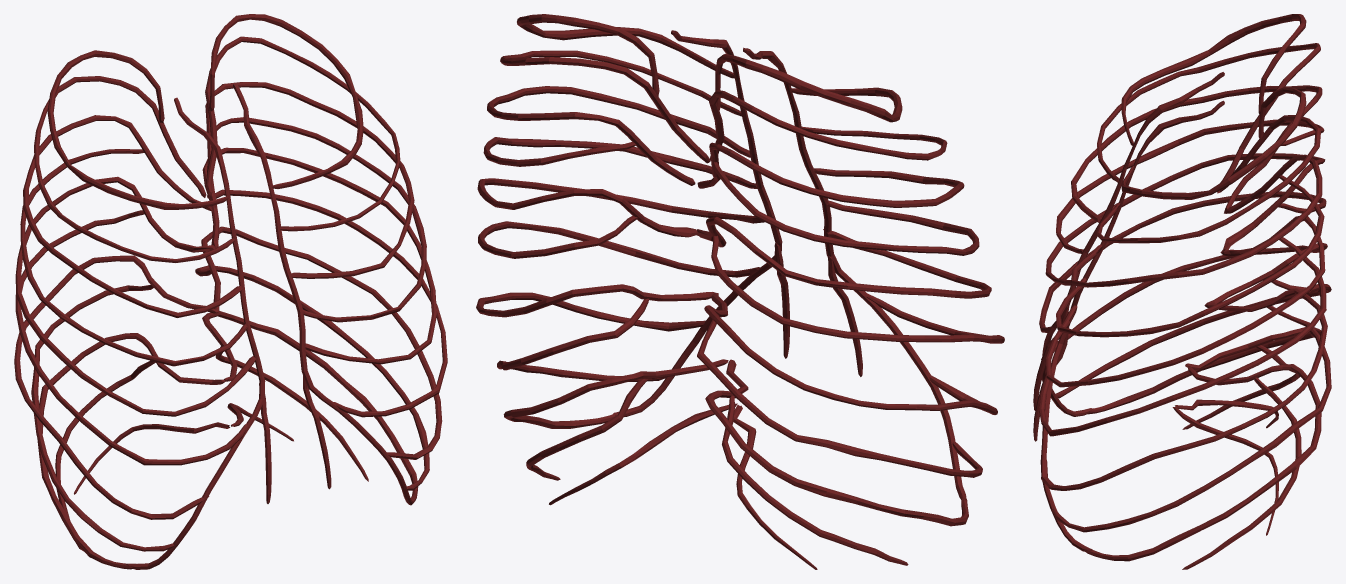
Rendered from Artérias Intercostales.FBX.
The picture shows the model from 3 angles, left to right: view 1: azimuth 30°, elevation 25°; view 2: azimuth 150°, elevation 25°; view 3: azimuth 270°, elevation 25°; orthographic projection. The views are drawn at different scales.
Parts seen in each view (by area): view 1: CS_Arterie; view 2: CS_Arterie; view 3: CS_Arterie.
Boxes of the visible parts, x1=… form: CS_Arterie: x1=14, y1=14, x2=447, y2=569; CS_Arterie: x1=476, y1=14, x2=1004, y2=569; CS_Arterie: x1=1033, y1=14, x2=1331, y2=569.
Size of the model in its own units: 37.55 by 40.95 by 25.04.
